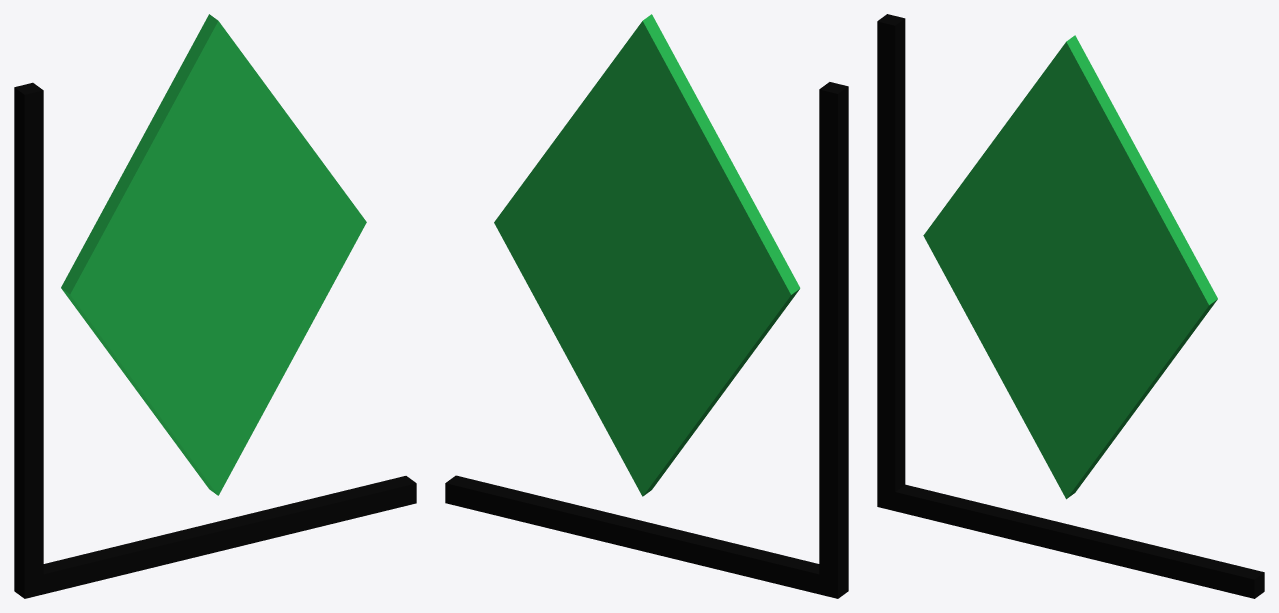
Rendered from rombo.gltf.
The picture shows the model from 3 angles, left to right: view 1: azimuth 30°, elevation 25°; view 2: azimuth 150°, elevation 25°; view 3: azimuth 330°, elevation 25°; orthographic projection. The views are drawn at different scales.
Bounding box in the file's own units: 0.0488 × 0.063 × 0.00228.
